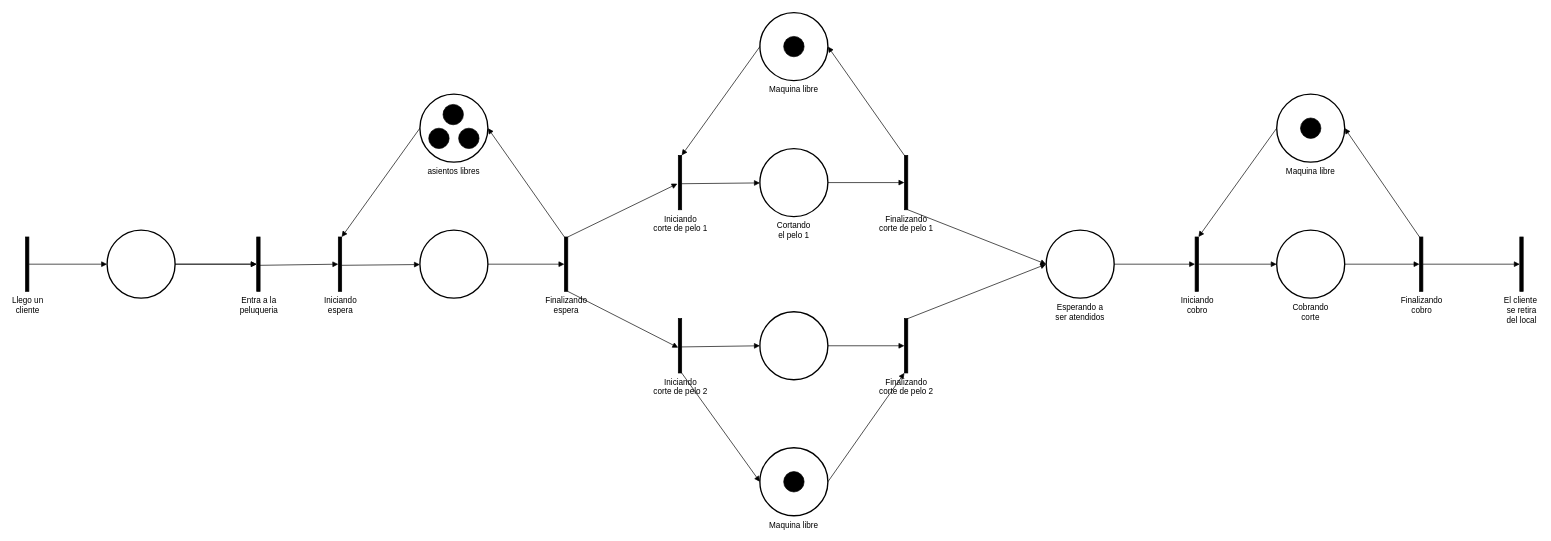
Image size: 1551x541. Some labels were removed from this diagram. Here are the shapes that lost their labels. From the top down, the centre of each, then its label:
At (140,264): "Fila para entrar a la peluqueria".
At (453,264): "Esperando".
At (793,345): "Cortando el pelo 2".
